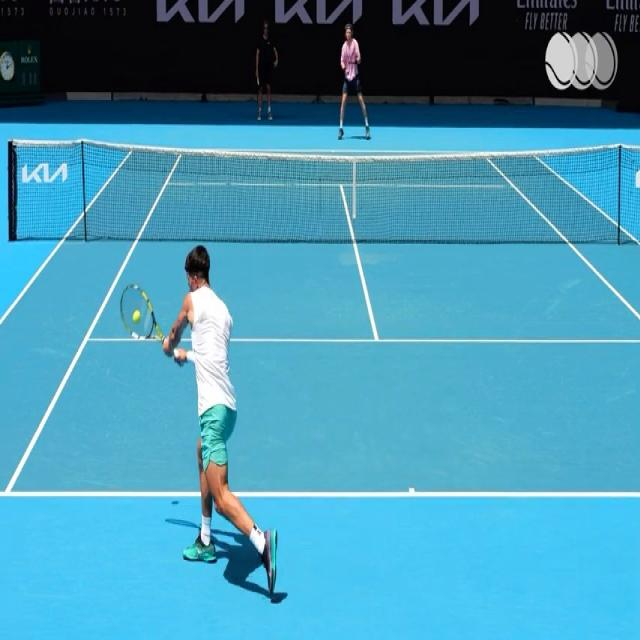backhand-stroke: (116, 245, 292, 587)
